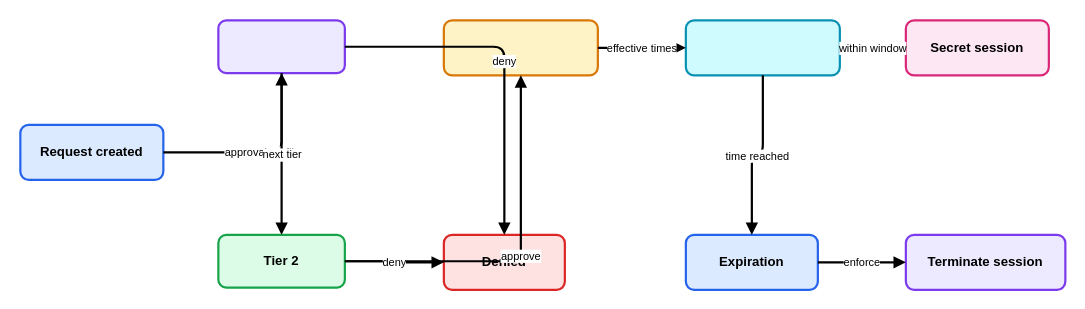
Image size: 1085x309. Some labels were removed from this diagram. Here are the shapes that lost their labels. From the top down, the centre of each, then its label:
At (281,46): "Tier 1".
At (520,47): "Final approved".
At (762,47): "Access window".
